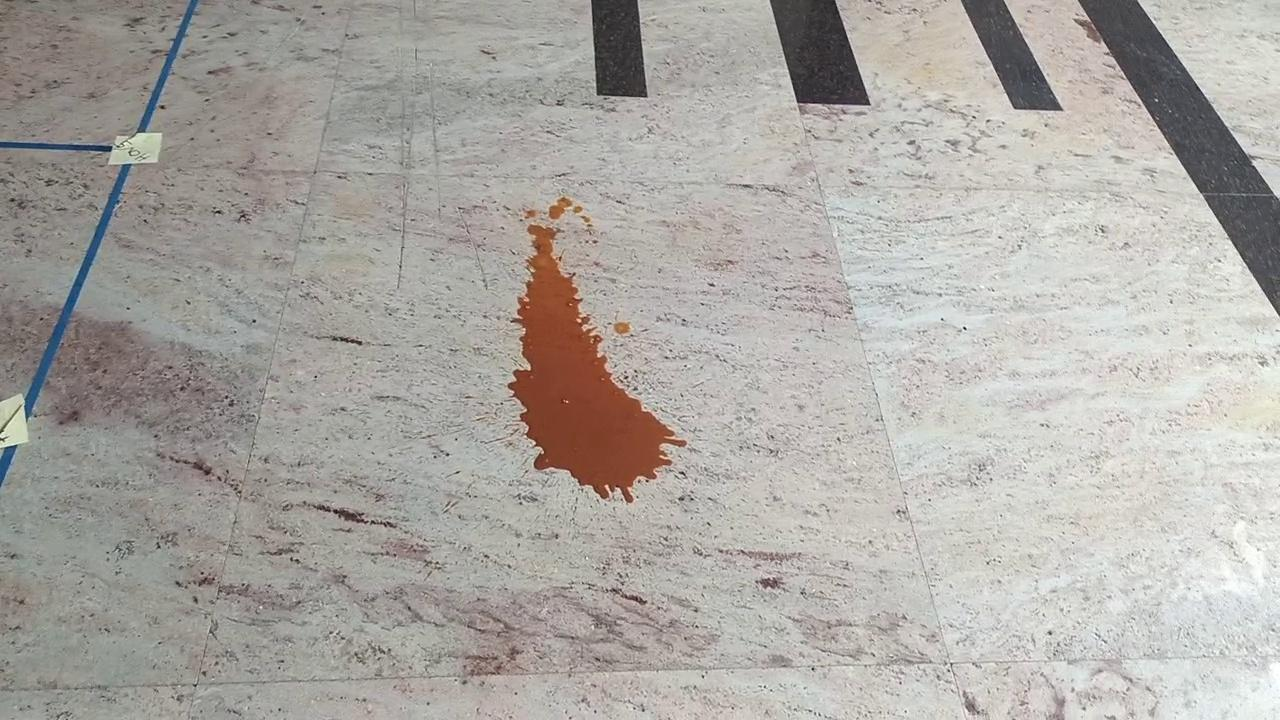dirty_floor: (510, 194, 687, 510)
